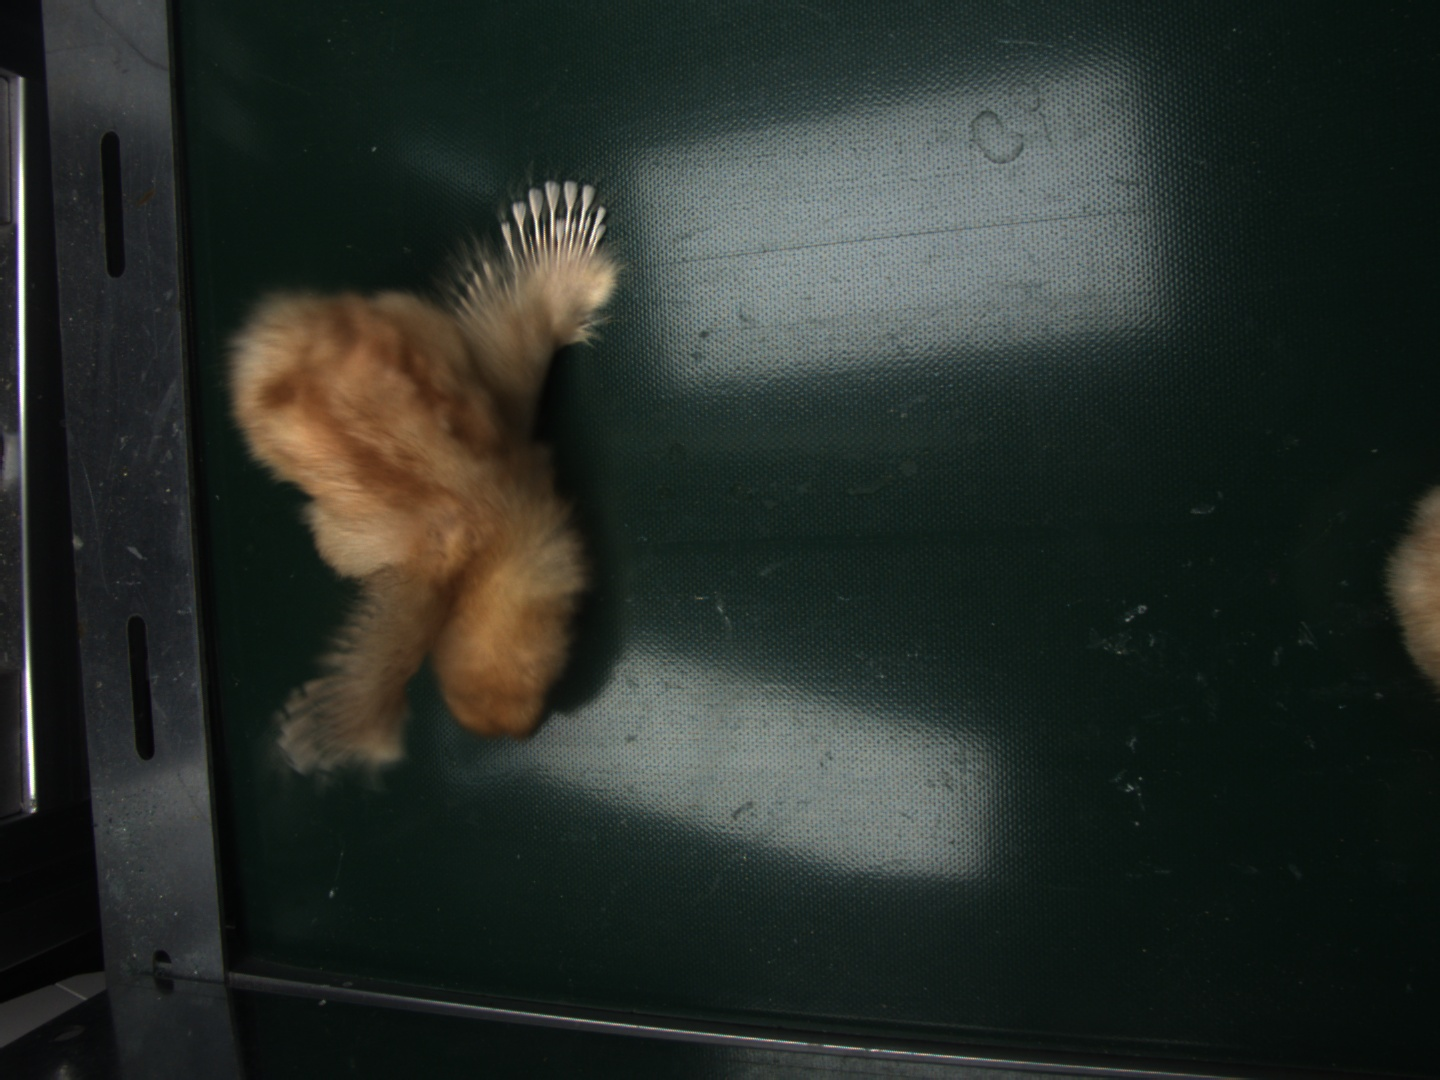female: (503, 176, 609, 268)
